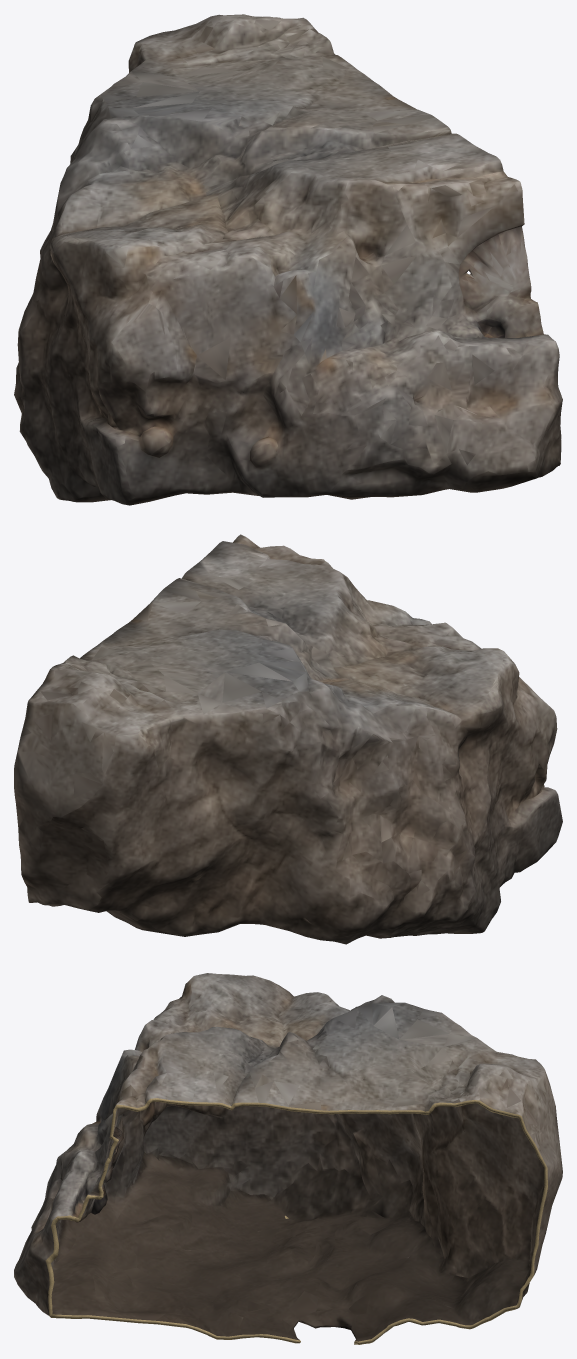
File: shellstone-v0-last-lod0.gltf
3 renders of one model, top to bottom at view 1: azimuth 30°, elevation 25°; view 2: azimuth 150°, elevation 25°; view 3: azimuth 270°, elevation 25°, orthographic. The views are drawn at different scales.
Parts seen in each view (by area): view 1: shellstone-v0-last-lod0; view 2: shellstone-v0-last-lod0; view 3: shellstone-v0-last-lod0.
Part boxes in pixels (x1,y1,x2,y2): shellstone-v0-last-lod0: (14, 14, 562, 505); shellstone-v0-last-lod0: (14, 534, 562, 944); shellstone-v0-last-lod0: (14, 973, 562, 1344).
Bounding box in the file's own units: 0.6902 × 0.5328 × 1.02.
2 materials, 2 textured.
